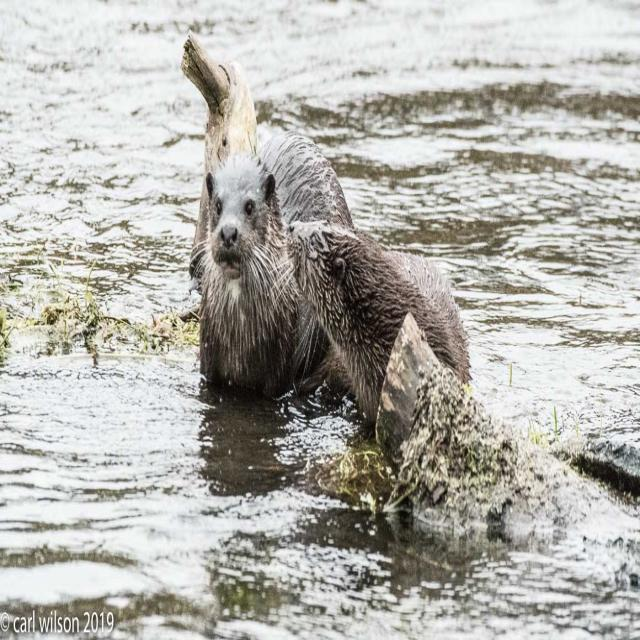otter: (203, 133, 351, 387), (290, 218, 469, 418)
